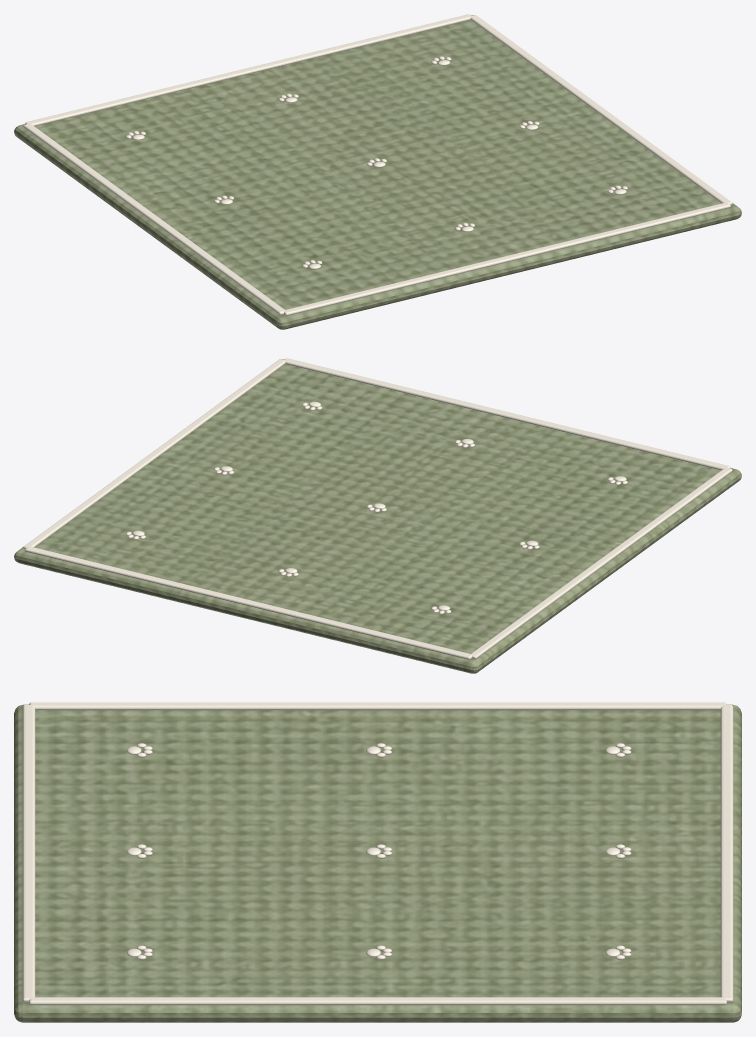
The model's file is picnic_mat.glb.
The picture shows the model from 3 angles, top to bottom: view 1: azimuth 30°, elevation 25°; view 2: azimuth 150°, elevation 25°; view 3: azimuth 270°, elevation 25°; orthographic projection. The views are drawn at different scales.
Parts seen in each view (by area): view 1: picnic_mat; view 2: picnic_mat; view 3: picnic_mat.
Boxes of the visible parts, box(x1,y1,x2,y2) form: picnic_mat: box(14, 14, 741, 329); picnic_mat: box(14, 358, 741, 673); picnic_mat: box(14, 702, 741, 1022).
Bounding box in the file's own units: 1.46 × 0.0495 × 1.46.
2 materials, 1 textured.
